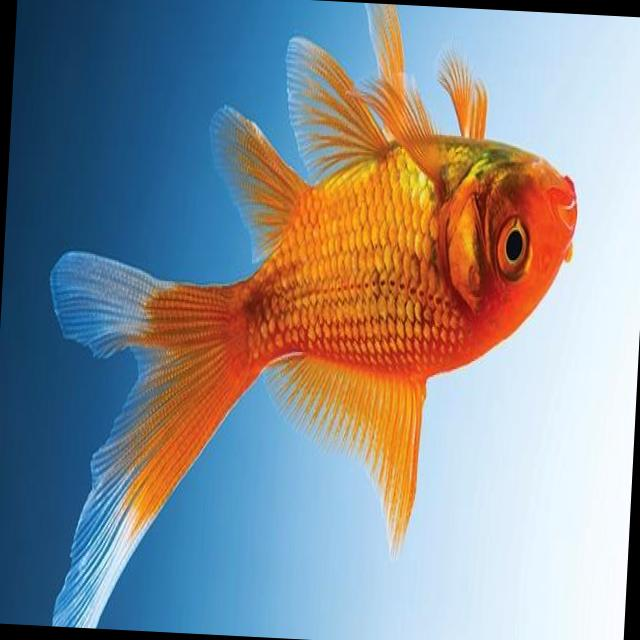GoldFish: (27, 0, 594, 640)
